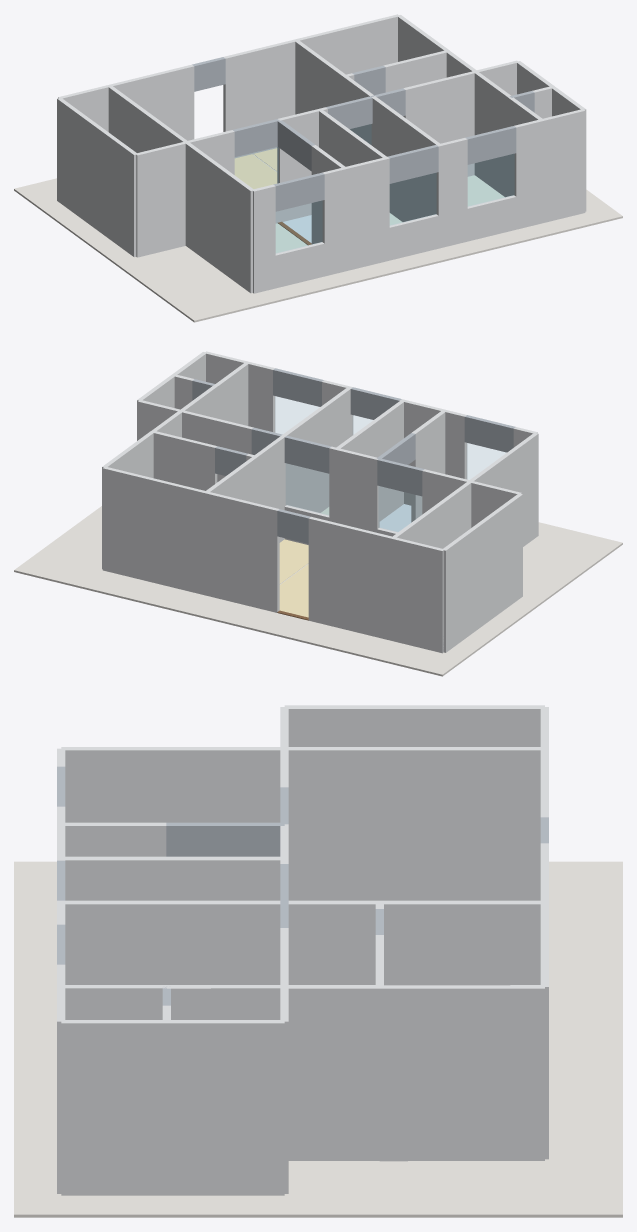
File: 3bhk_complete_rooms.glb
The picture shows the model from 3 angles, top to bottom: view 1: azimuth 30°, elevation 25°; view 2: azimuth 150°, elevation 25°; view 3: azimuth 270°, elevation 25°; orthographic projection. The views are drawn at different scales.
Parts seen in each view (by area): view 1: floor_slab, wall_028_w29, wall_012_w13, wall_post_026_final, wall_006_w7, wall_004_w5, wall_001_w2, wall_015_w16, wall_post_010_final, wall_027_w28, wall_post_026_00, wall_post_003_00 (+37 smaller); view 2: floor_slab, wall_027_w28, wall_post_026_00, wall_028_w29, wall_post_026_final, wall_025_w26, wall_015_w16, wall_008_w9, wall_012_w13, wall_post_029_final, wall_013_w14, wall_014_w15 (+31 smaller); view 3: floor_slab, wall_013_w14, wall_021_w22, wall_023_w24, wall_022_w23, wall_015_w16, wall_012_w13, wall_020_w21, wall_017_w18, wall_028_w29, wall_014_w15, wall_016_w17 (+8 smaller).
Part boxes in pixels (left/top/right/bottom): floor_slab: left=14, top=154, right=622, bottom=322; wall_028_w29: left=57, top=98, right=137, bottom=257; wall_012_w13: left=185, top=142, right=254, bottom=293; wall_post_026_final: left=223, top=39, right=295, bottom=158; wall_006_w7: left=136, top=142, right=187, bottom=257; wall_004_w5: left=541, top=109, right=585, bottom=222; wall_001_w2: left=344, top=157, right=387, bottom=271; wall_015_w16: left=371, top=96, right=439, bottom=221; wall_post_010_final: left=403, top=71, right=476, bottom=176; wall_027_w28: left=295, top=14, right=398, bottom=74; wall_post_026_00: left=109, top=64, right=194, bottom=140; wall_post_003_00: left=438, top=138, right=467, bottom=247; floor_slab: left=14, top=506, right=622, bottom=676; wall_027_w28: left=102, top=466, right=207, bottom=595; wall_post_026_00: left=308, top=516, right=392, bottom=640; wall_028_w29: left=443, top=494, right=522, bottom=652; wall_post_026_final: left=205, top=491, right=279, bottom=612; wall_025_w26: left=392, top=537, right=444, bottom=653; wall_015_w16: left=282, top=387, right=350, bottom=512; wall_008_w9: left=336, top=448, right=379, bottom=532; wall_012_w13: left=469, top=433, right=538, bottom=546; wall_post_029_final: left=152, top=431, right=217, bottom=490; wall_013_w14: left=391, top=481, right=471, bottom=548; wall_014_w15: left=336, top=400, right=403, bottom=521; floor_slab: left=14, top=861, right=622, bottom=1217; wall_013_w14: left=285, top=747, right=544, bottom=900; wall_021_w22: left=379, top=985, right=544, bottom=1161; wall_023_w24: left=167, top=1020, right=284, bottom=1195; wall_022_w23: left=61, top=1020, right=166, bottom=1195; wall_015_w16: left=65, top=900, right=280, bottom=984; wall_012_w13: left=61, top=747, right=284, bottom=822; wall_020_w21: left=285, top=985, right=379, bottom=1160; wall_017_w18: left=379, top=900, right=542, bottom=985; wall_028_w29: left=284, top=705, right=544, bottom=746; wall_014_w15: left=65, top=856, right=280, bottom=900; wall_016_w17: left=288, top=900, right=379, bottom=984.
Bounding box in the file's own units: 12.29 × 2.85 × 8.96.
